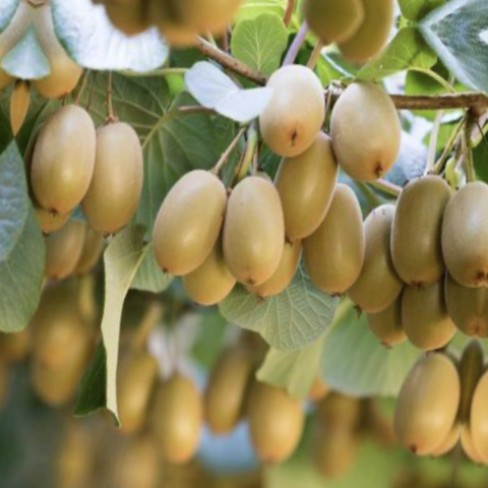kiwi: (374, 157, 476, 315), (143, 135, 243, 296), (65, 104, 163, 244), (319, 71, 417, 198), (202, 158, 297, 287), (385, 336, 473, 467), (21, 92, 104, 230)
